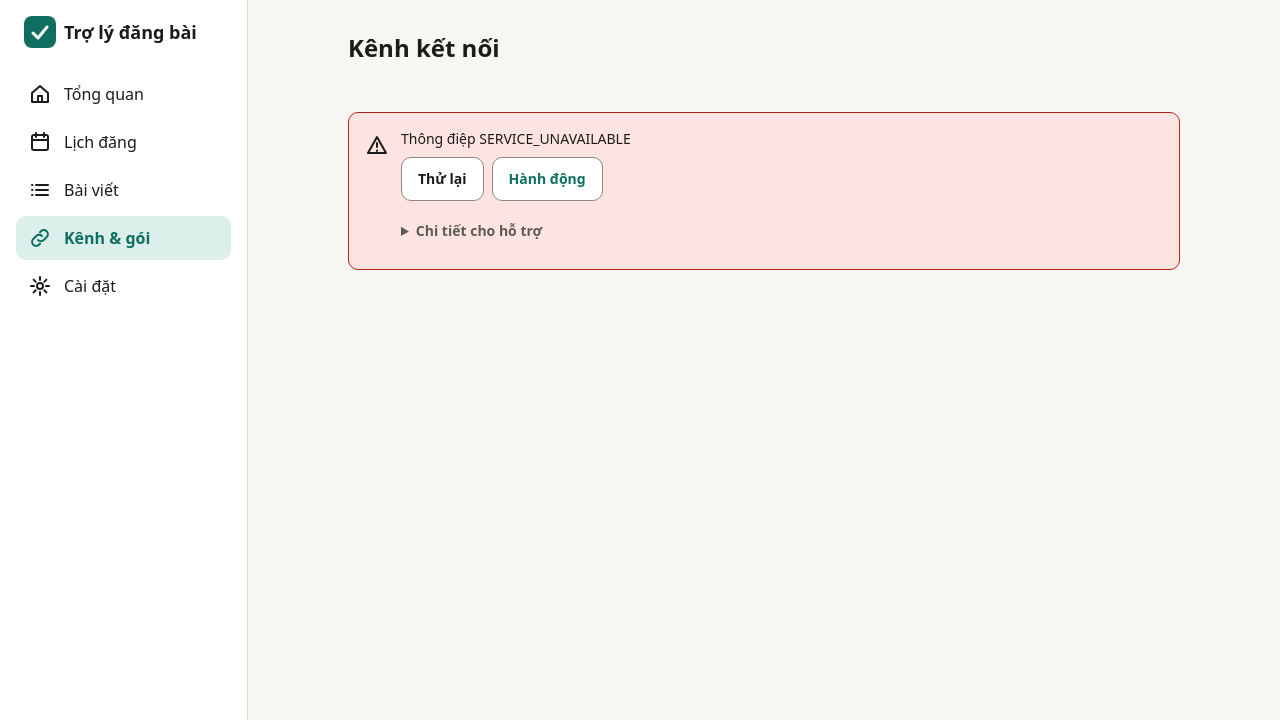
Test case: ChannelsPage › lỗi tải ⇒ ErrorNotice có nút Thử lại; bấm tải lại thành công
The image size is (1280, 720).
Click the button "Thử lại".
click(442, 179)  # box [401,157,484,201]
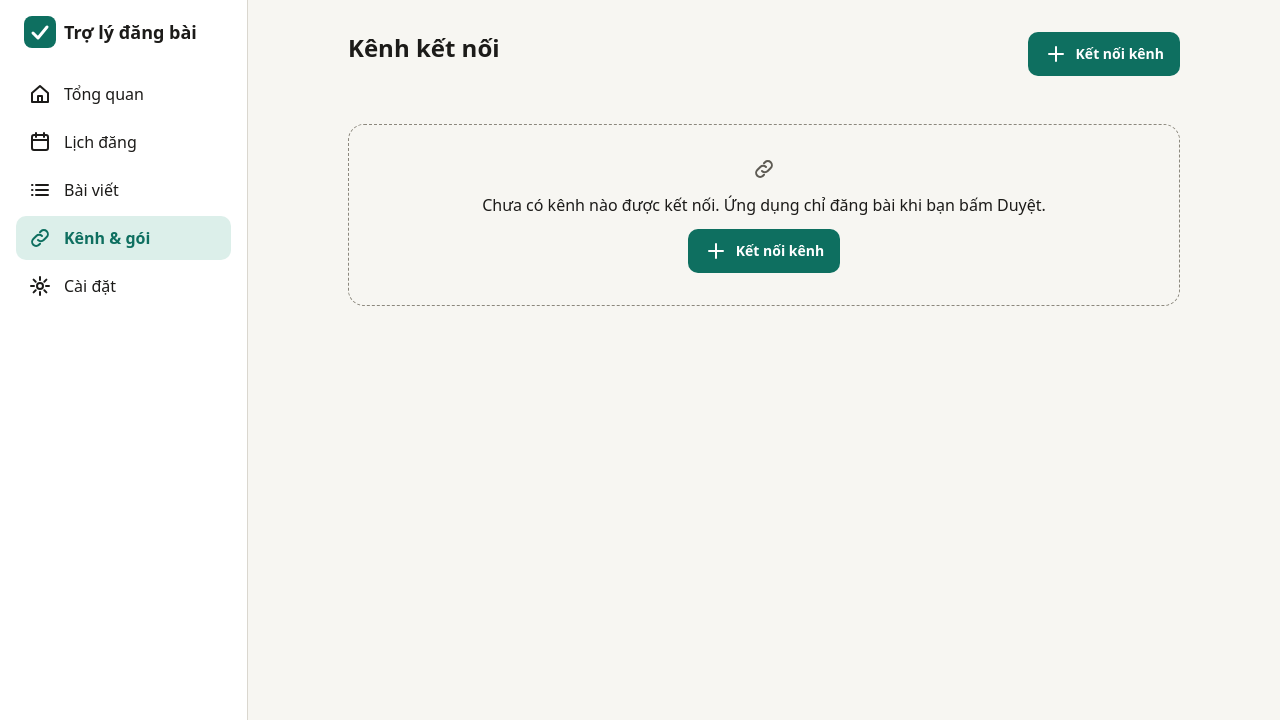
Expected: the text "Chưa có kênh nào được kết nối" is shown, [482,194,1046,216]
